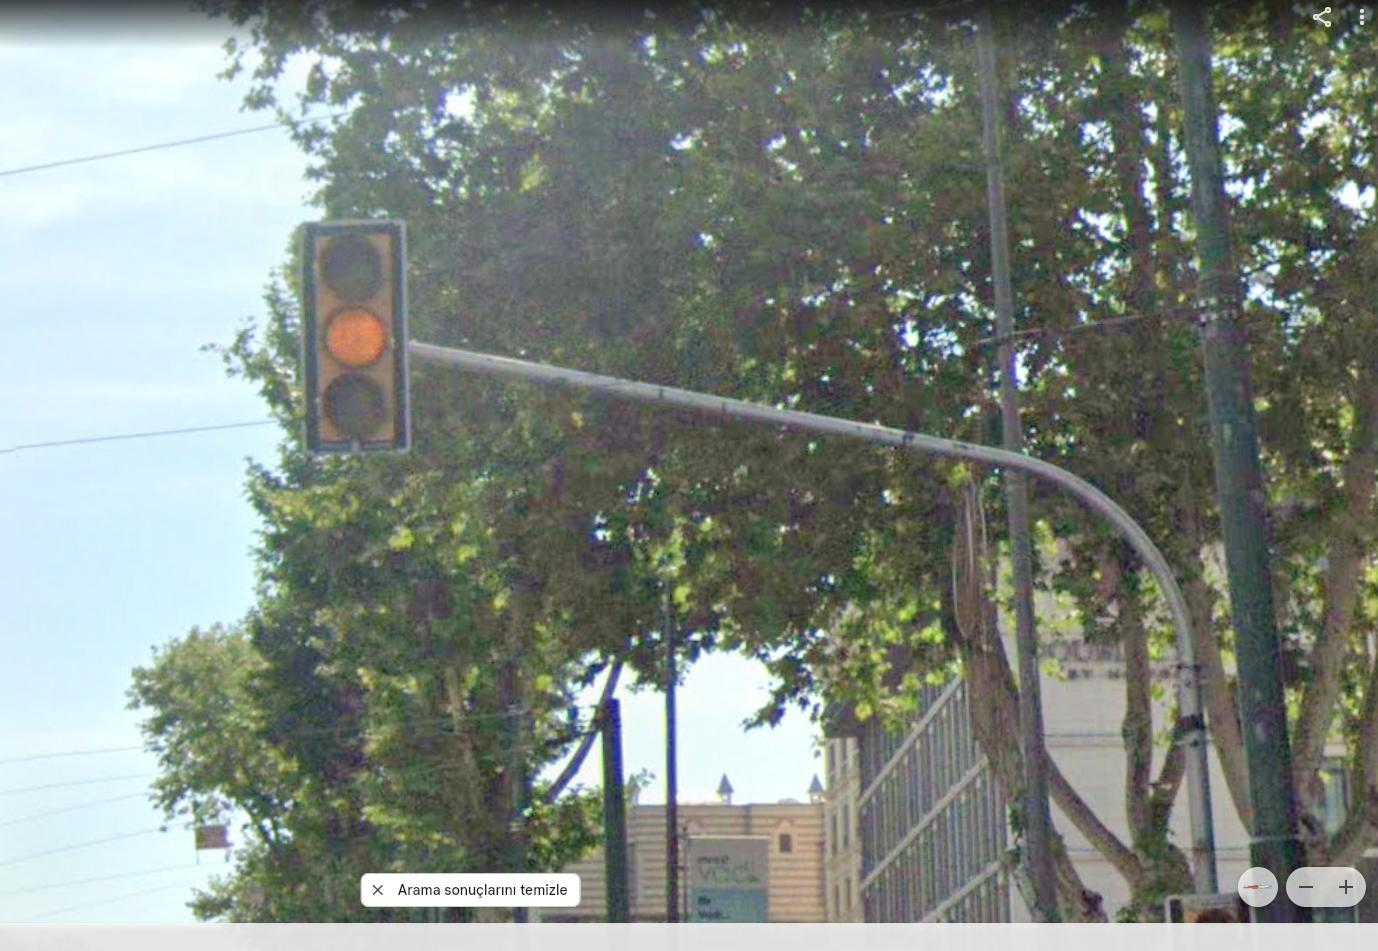yellowlight: (307, 225, 402, 448)
